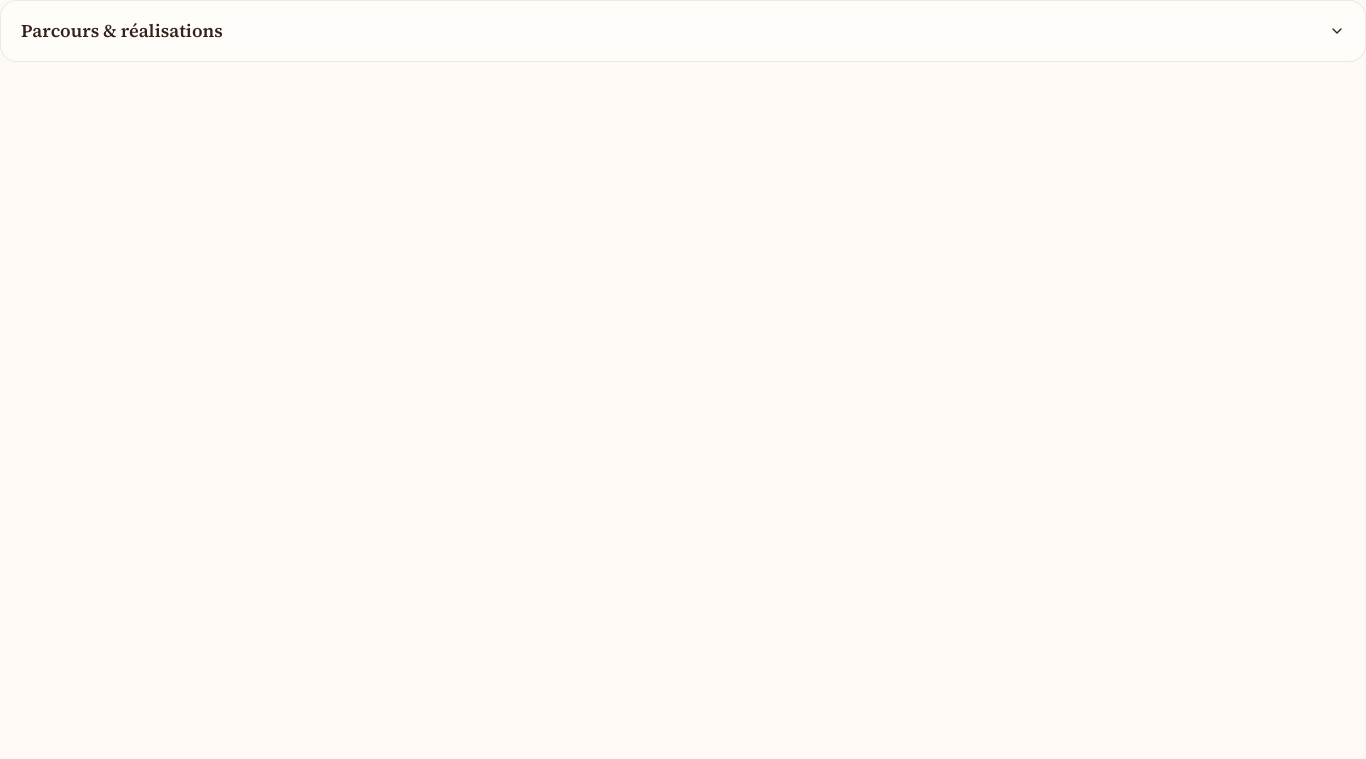
Test: ParcoursContentForm › adds and removes items in an array editor
Click the button "Parcours & réalisations".
click(122, 30)  # box [1,1,1365,61]
(page scrolled)
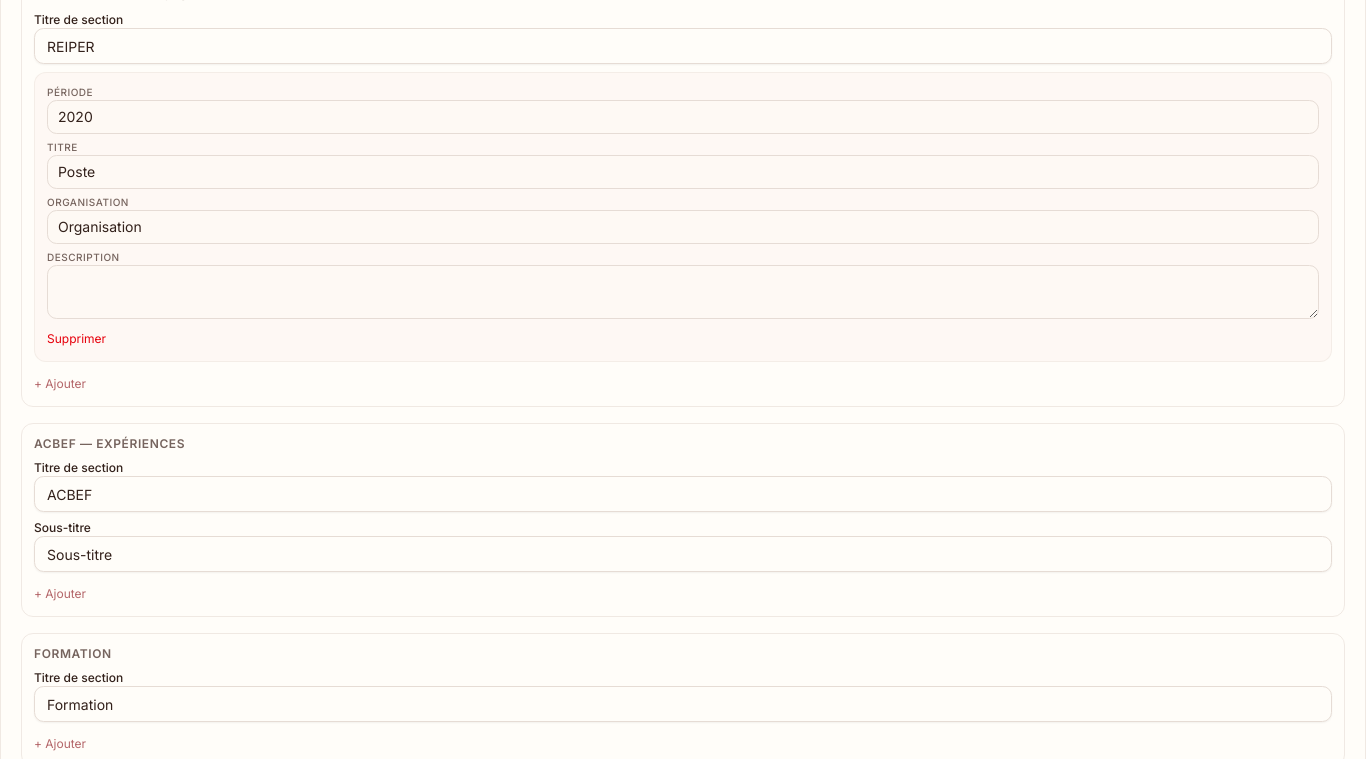
Expected: the number of buttons "Supprimer" is 1, [47,331,106,347]
Click the button "+ Ajouter" below "Organisation".
click(60, 384)  # box [34,376,86,392]
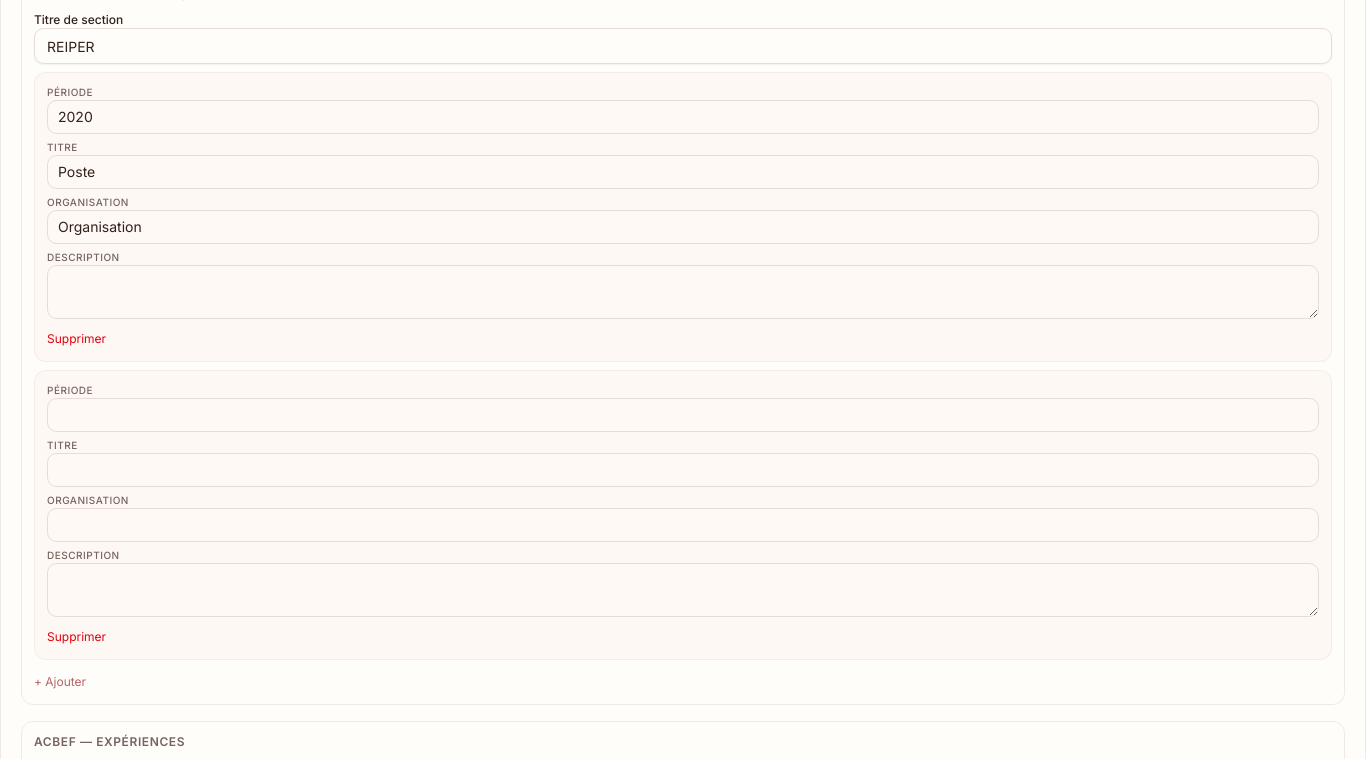
Expected: the number of buttons "Supprimer" is 2
Click the 1st button "Supprimer".
click(77, 339)  # box [47,331,106,347]
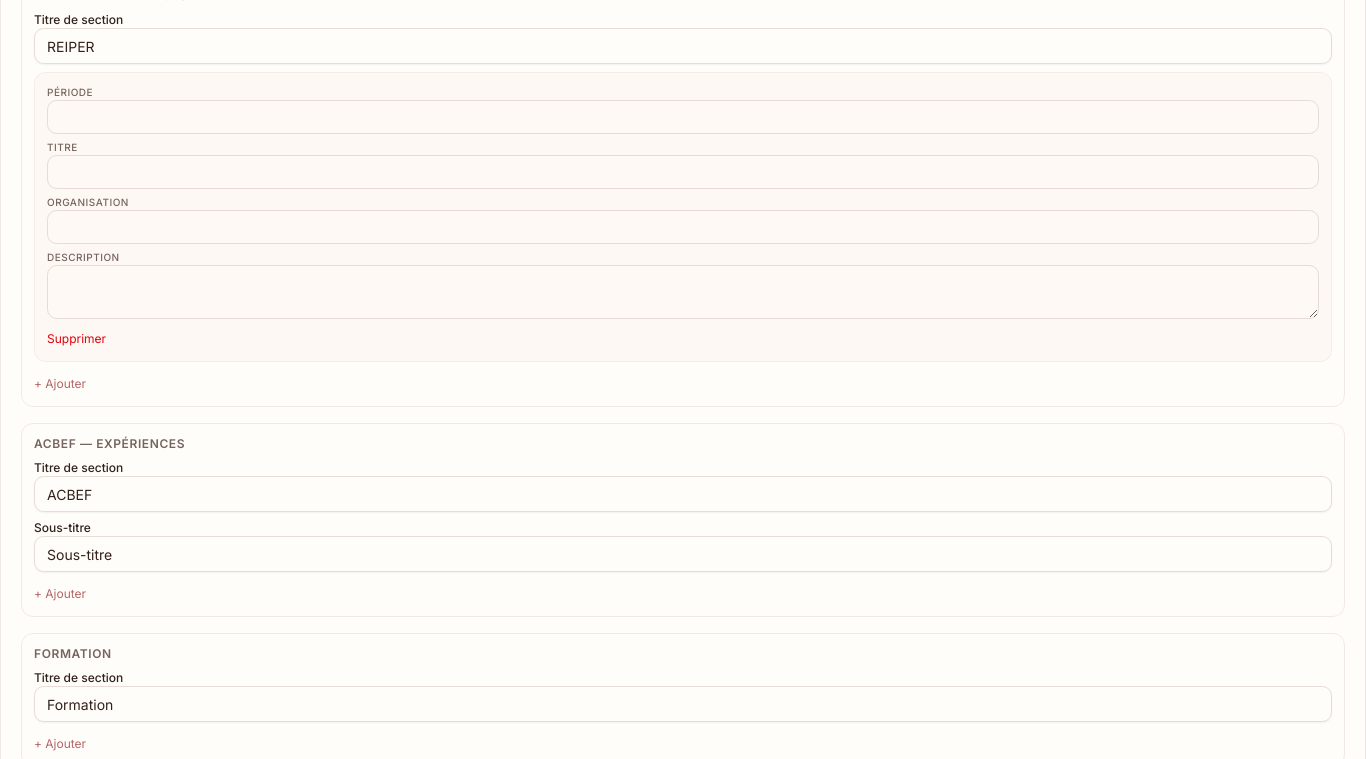
Expected: the number of buttons "Supprimer" is 1, [47,331,106,347]
